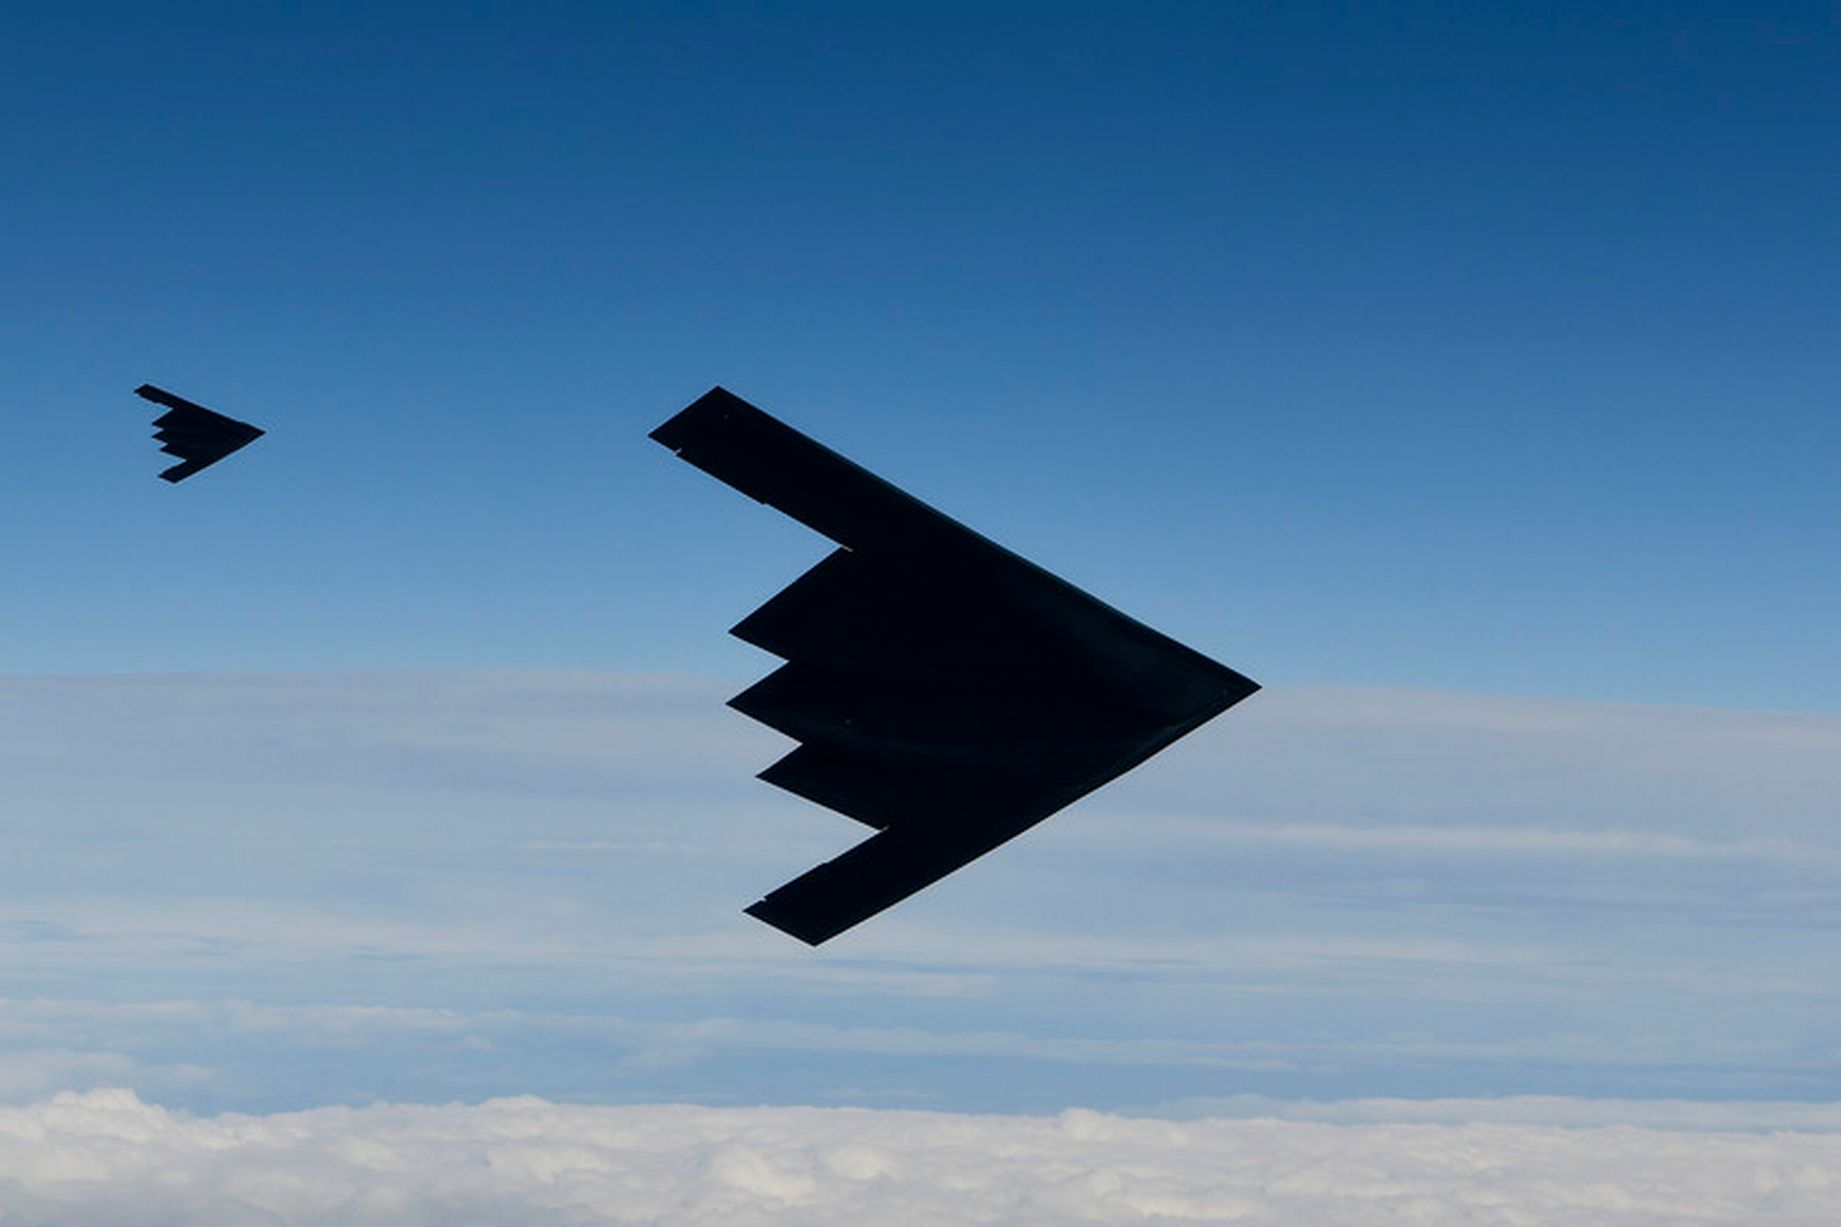B2: (647, 383, 1263, 948), (131, 383, 266, 486)
